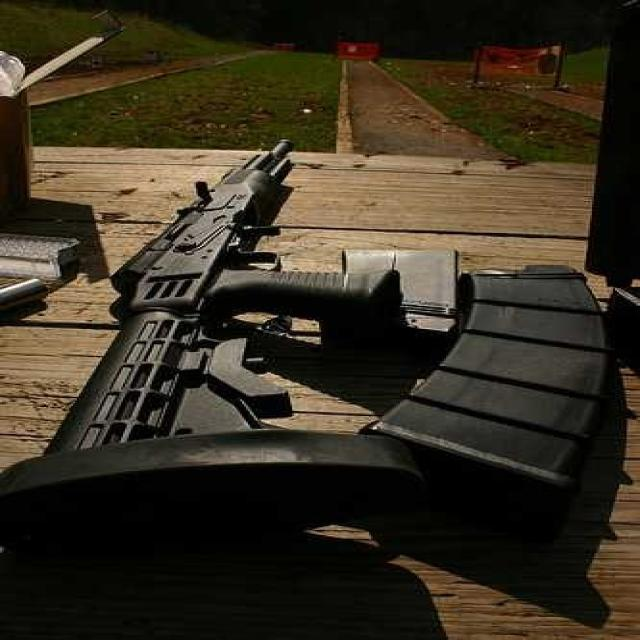heavyweapon: (36, 130, 439, 489)
